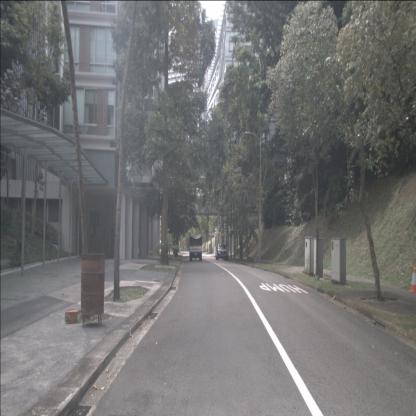movable_object-trafficcone: (408, 265, 416, 293)
vehicle-car: (216, 244, 228, 260)
vehicle-truck: (189, 235, 202, 261)
